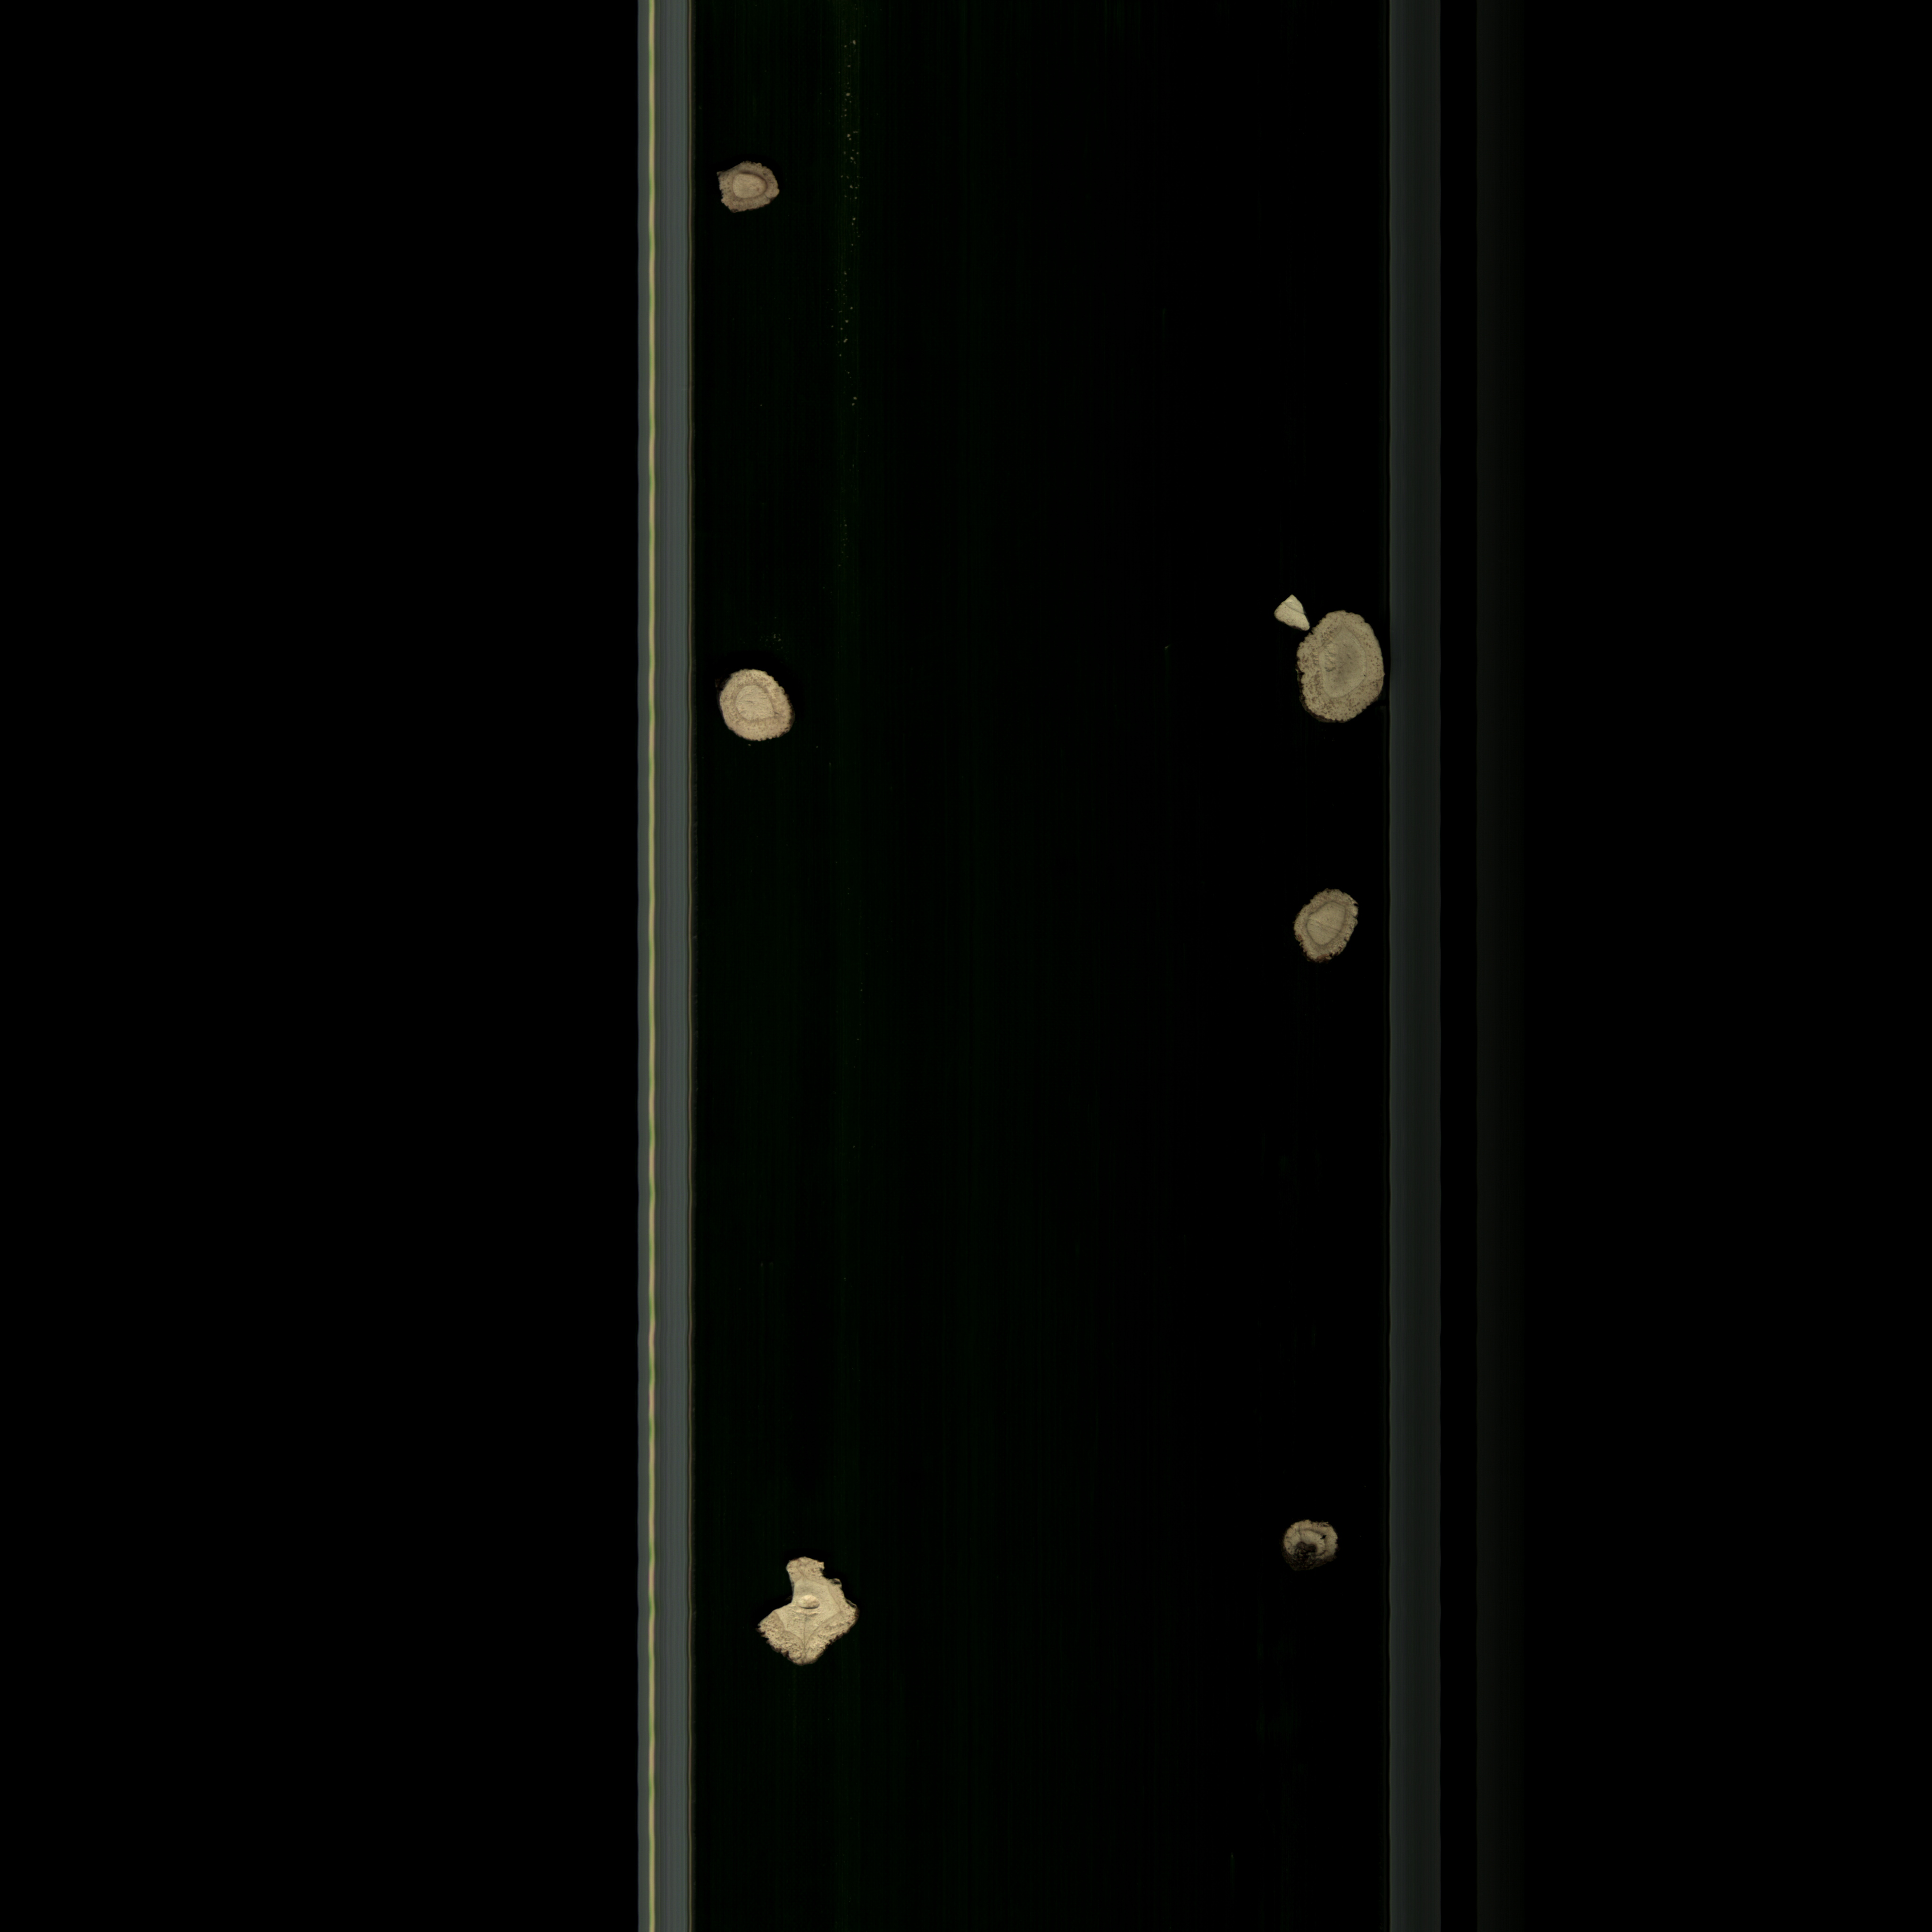debris: (757, 1550, 865, 1683), (1261, 579, 1315, 642)
moldy: (1274, 607, 1391, 727), (1281, 883, 1366, 977), (1261, 1511, 1364, 1580), (709, 156, 798, 225)
